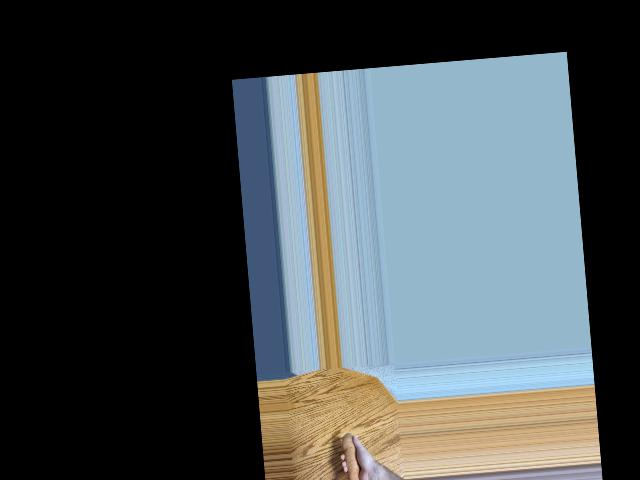sweet_potato: (340, 431, 370, 480)
